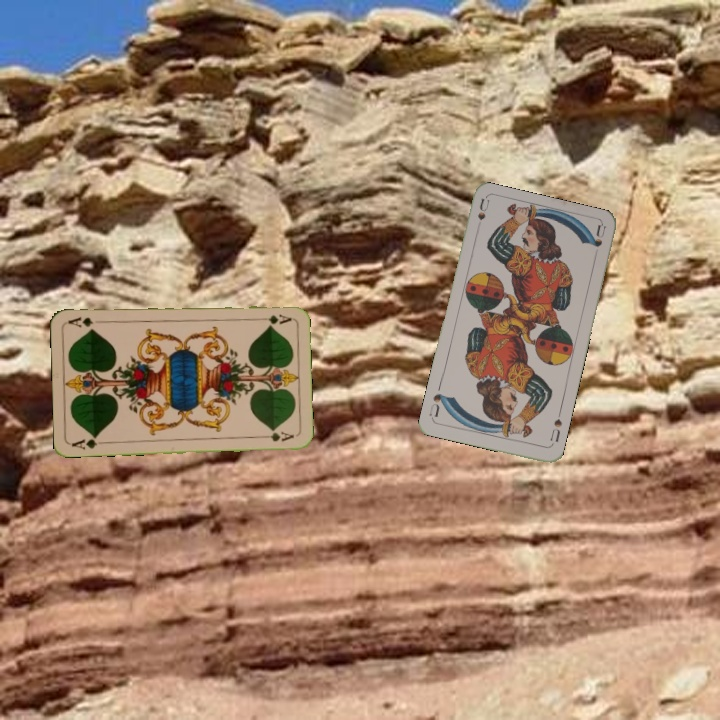GA: (68, 432, 109, 452), (253, 310, 294, 326)
SU: (472, 196, 492, 237), (546, 408, 564, 448)
